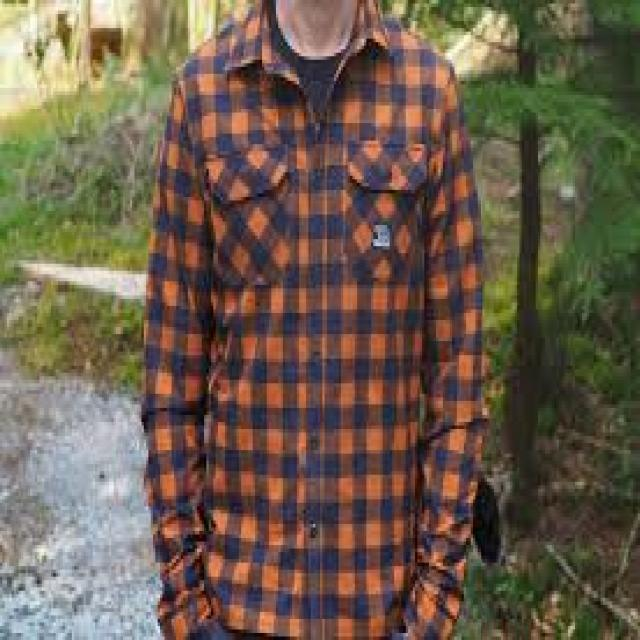plaid: (149, 16, 486, 638)
